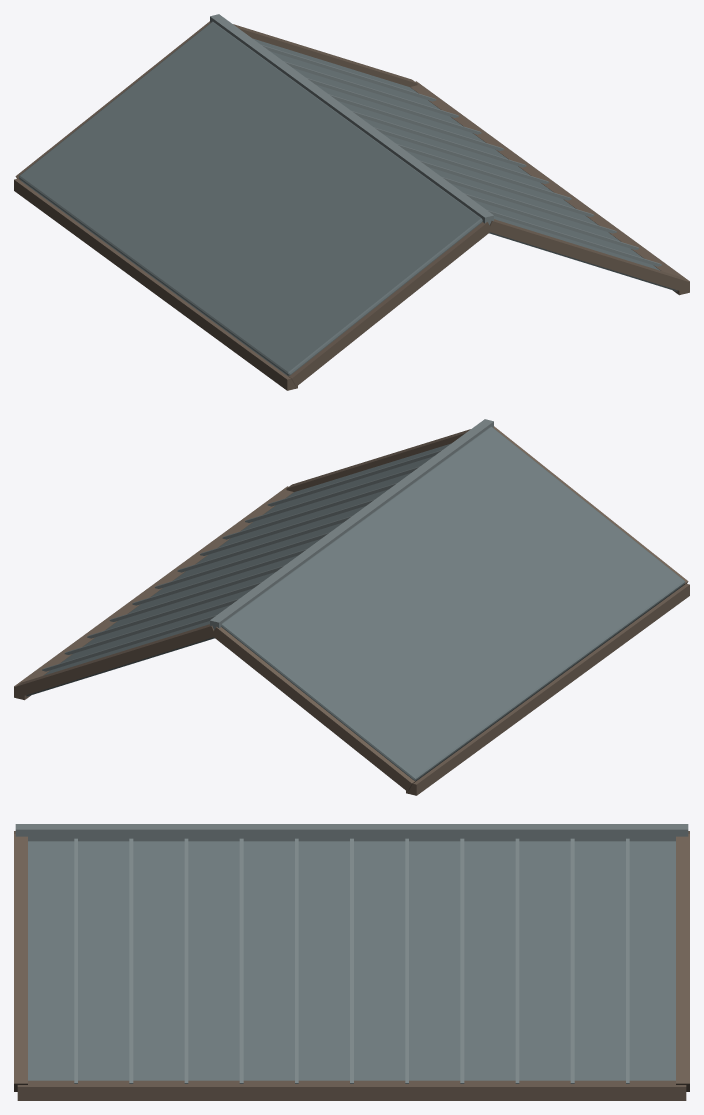
Rendered from Lake_Roof_Gable.glb.
3 views of the same model, one above another, from view 1: azimuth 30°, elevation 25°; view 2: azimuth 150°, elevation 25°; view 3: azimuth 270°, elevation 25° (orthographic). The views are drawn at different scales.
Visible parts, largest first — view 1: Roof surface, Roof surface.001, Standing seam.013, Standing seam.032, Standing seam.028, Standing seam.029, Standing seam.027, Standing seam.031, Standing seam.015, Standing seam.017, Standing seam.019, Standing seam.016 (+8 smaller); view 2: Roof surface, Roof surface.001, Standing seam.013, Standing seam.032, Standing seam.030, Standing seam.031, Standing seam.027, Standing seam.029, Standing seam.021, Standing seam.023, Standing seam.025, Standing seam.015 (+8 smaller); view 3: Roof surface.001, Standing seam.027, Standing seam.032, Standing seam.029, Standing seam.031, Standing seam.016, Standing seam.018, Standing seam.022, Standing seam.024, Standing seam.017, Standing seam.023, Standing seam.015 (+4 smaller).
Boxes of the visible parts, box(x1,y1,x2,y2) form: Roof surface: box(18, 21, 482, 376); Roof surface.001: box(253, 38, 677, 291); Standing seam.013: box(14, 178, 297, 390); Standing seam.032: box(210, 14, 493, 224); Standing seam.028: box(287, 222, 489, 386); Standing seam.029: box(488, 219, 688, 291); Standing seam.027: box(410, 81, 689, 295); Standing seam.031: box(233, 24, 417, 86); Standing seam.015: box(486, 209, 661, 266); Standing seam.017: box(441, 176, 616, 233); Standing seam.019: box(396, 143, 571, 200); Standing seam.016: box(464, 193, 639, 249); Roof surface: box(221, 426, 685, 781); Roof surface.001: box(26, 443, 450, 696); Standing seam.013: box(406, 583, 689, 795); Standing seam.032: box(210, 419, 493, 629); Standing seam.030: box(211, 627, 415, 791); Standing seam.031: box(15, 624, 213, 696); Standing seam.027: box(14, 486, 293, 700); Standing seam.029: box(286, 429, 470, 491); Standing seam.021: box(132, 548, 307, 605); Standing seam.023: box(87, 581, 262, 638); Standing seam.025: box(42, 614, 217, 671); Standing seam.015: box(267, 449, 442, 506); Roof surface.001: box(28, 841, 675, 1080); Standing seam.027: box(17, 1080, 686, 1100); Standing seam.032: box(15, 824, 688, 841); Standing seam.029: box(14, 834, 27, 1091); Standing seam.031: box(676, 834, 689, 1091); Standing seam.016: box(129, 838, 133, 1083); Standing seam.018: box(239, 838, 243, 1083); Standing seam.022: box(460, 838, 464, 1083); Standing seam.024: box(570, 838, 574, 1083); Standing seam.017: box(184, 838, 188, 1083); Standing seam.023: box(515, 838, 519, 1083); Standing seam.015: box(74, 838, 77, 1083).
Bounding box in the file's own units: 5.24 × 1.57 × 6.23.
